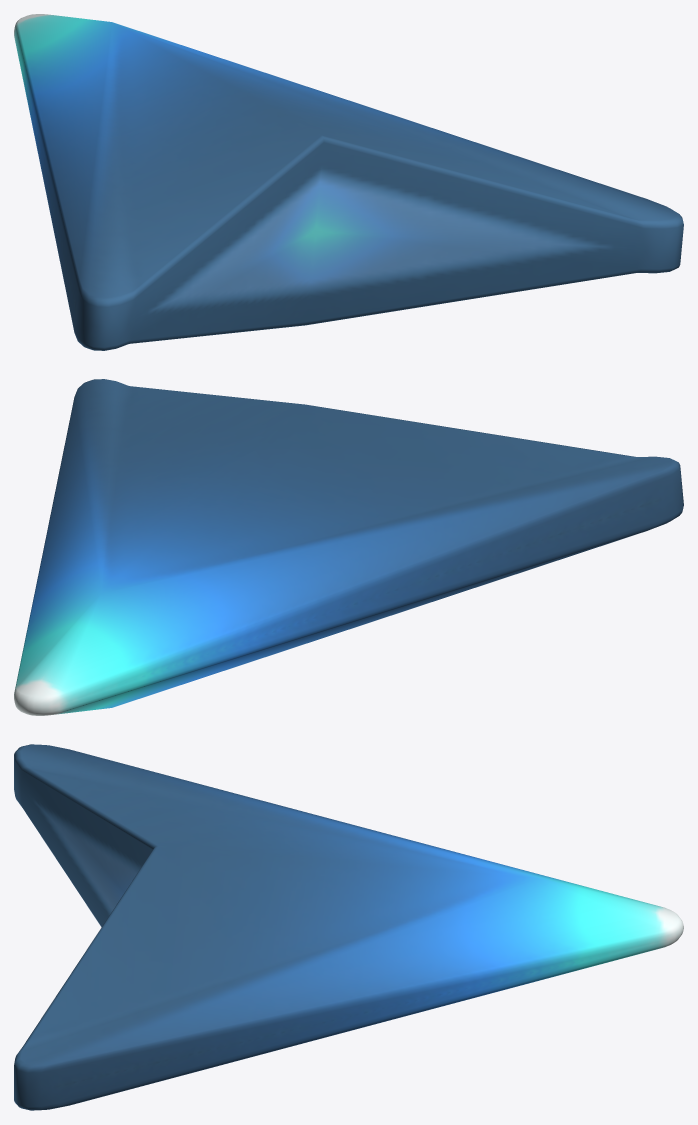
File: arrow_rotated_center.glb
3 views of the same model, one above another, from view 1: azimuth 30°, elevation 25°; view 2: azimuth 150°, elevation 25°; view 3: azimuth 270°, elevation 25° (orthographic). The views are drawn at different scales.
Parts seen in each view (by area): view 1: arrow_0; view 2: arrow_0; view 3: arrow_0.
Part boxes in pixels (left/top/right/bottom): arrow_0: left=14, top=14, right=683, bottom=350; arrow_0: left=14, top=379, right=683, bottom=715; arrow_0: left=14, top=744, right=683, bottom=1110.
Bounding box in the file's own units: 0.1475 × 0.0437 × 0.155.
Materials: 1 (1 with a texture image).
